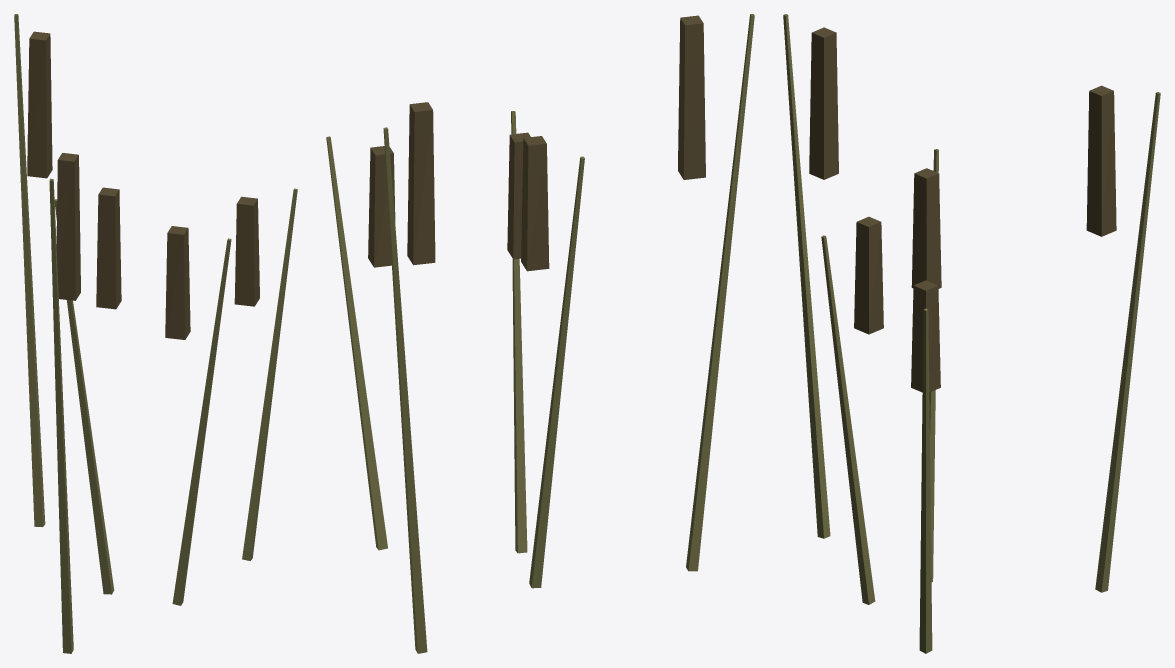
Rendered from tall_reeds-far.glb.
3 renders of one model, left to right at view 1: azimuth 30°, elevation 25°; view 2: azimuth 150°, elevation 25°; view 3: azimuth 270°, elevation 25°, orthographic. The views are drawn at different scales.
Visible parts, largest first — view 1: world-scenery/tall_reeds-far; view 2: world-scenery/tall_reeds-far; view 3: world-scenery/tall_reeds-far.
Part boxes in pixels (<box>): world-scenery/tall_reeds-far: <box>14,14,297,653</box>; world-scenery/tall_reeds-far: <box>326,14,754,653</box>; world-scenery/tall_reeds-far: <box>783,14,1160,653</box>.
Bounding box in the file's own units: 1.05 × 1.57 × 1.06.
